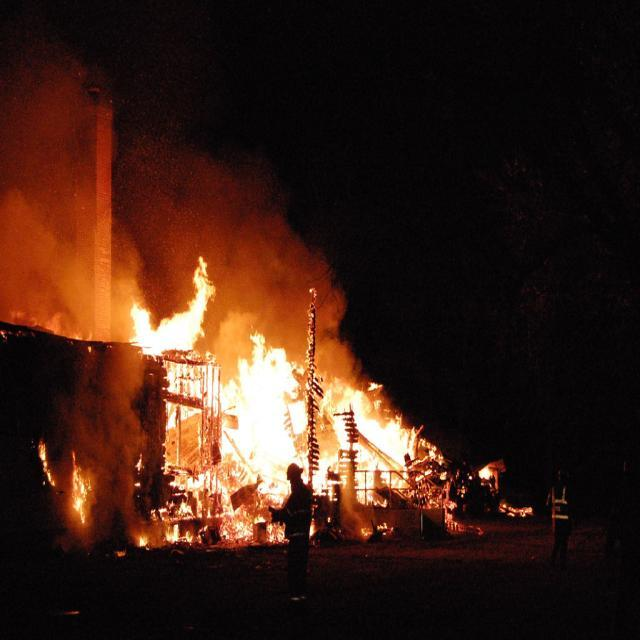Fire: (240, 375, 288, 473), (362, 424, 408, 459), (150, 319, 194, 349)
